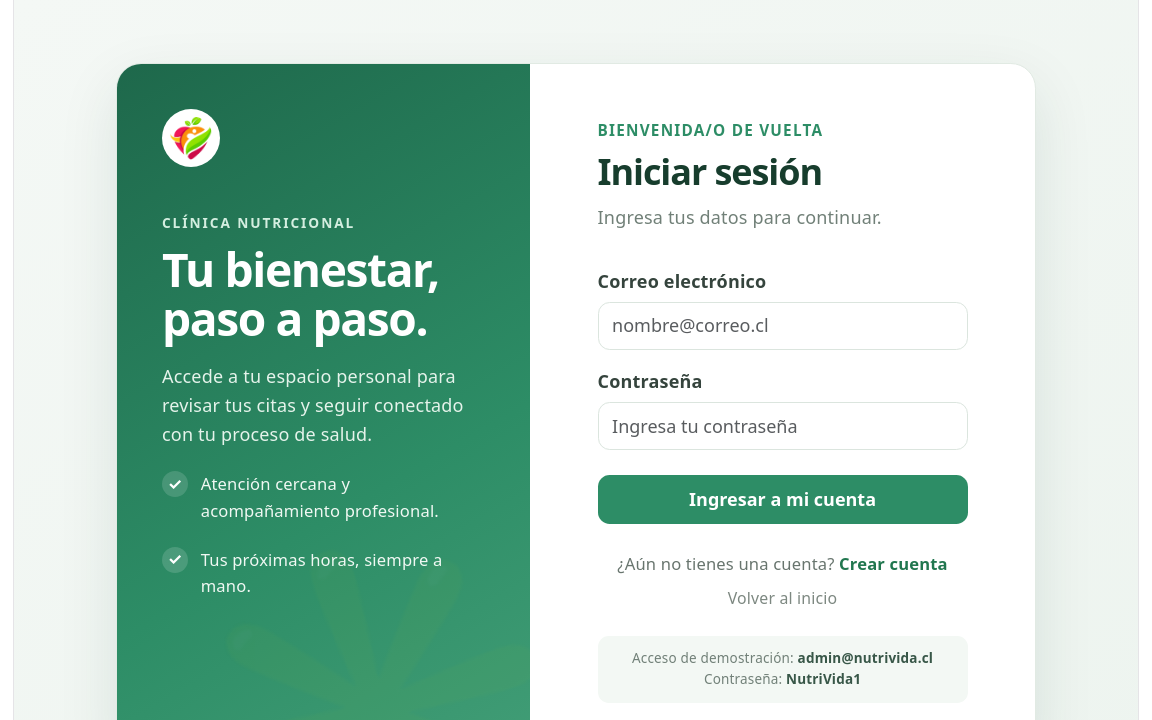
Test: 05 - una contraseña incorrecta muestra un error y no inicia sesión
Type "paciente@gmail.com" into the field labelled "Correo electrónico". click: (782, 326)
box: [598,302,968,350]
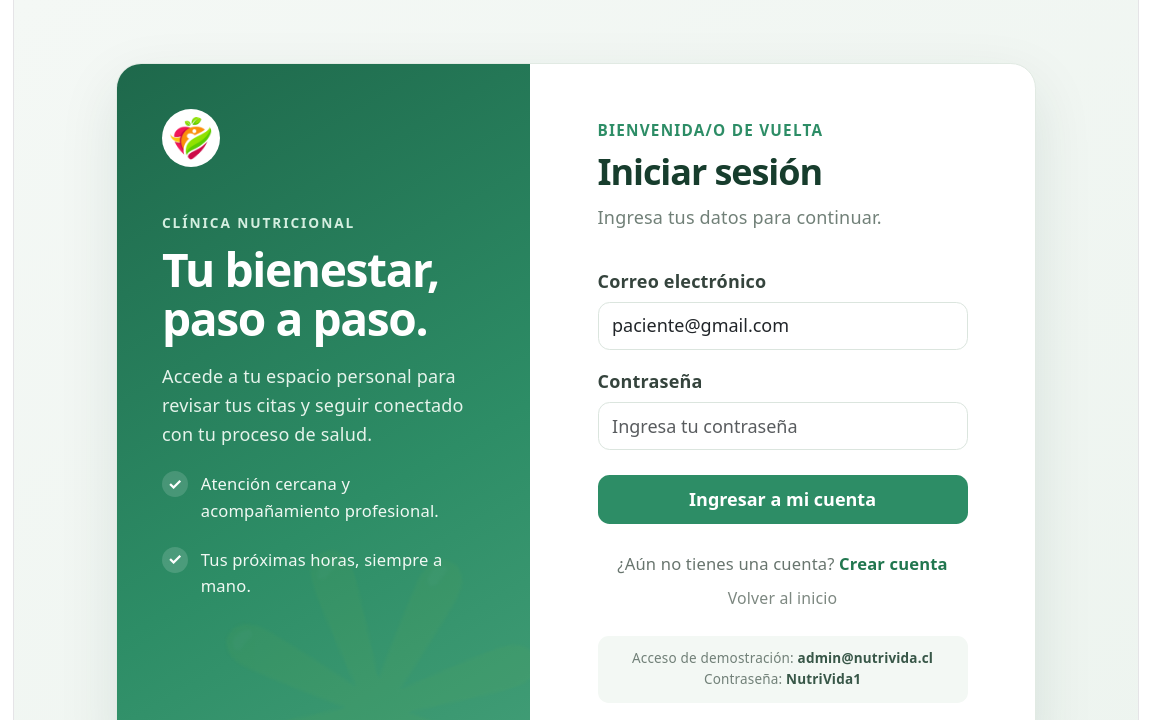
Type "Mala123" into the password field labelled "Contraseña". click: (782, 426)
box: [598,402,968,450]
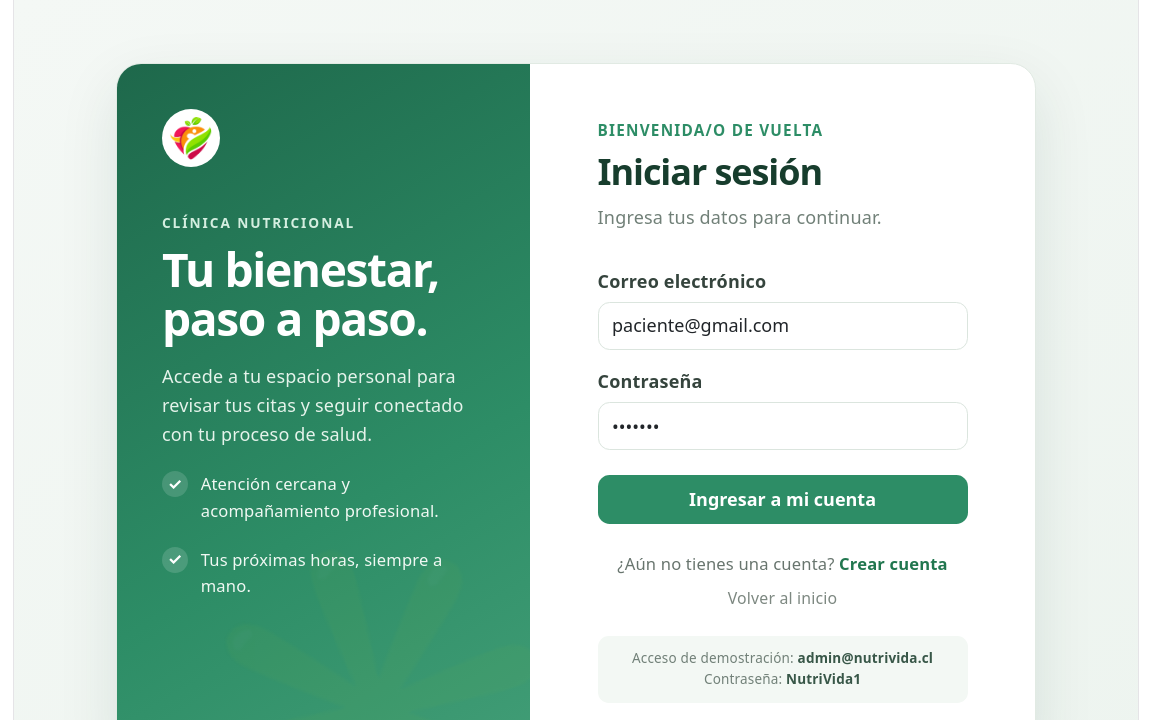
Click the button "Ingresar a mi cuenta". click: click(782, 500)
box: [598,475,968,524]
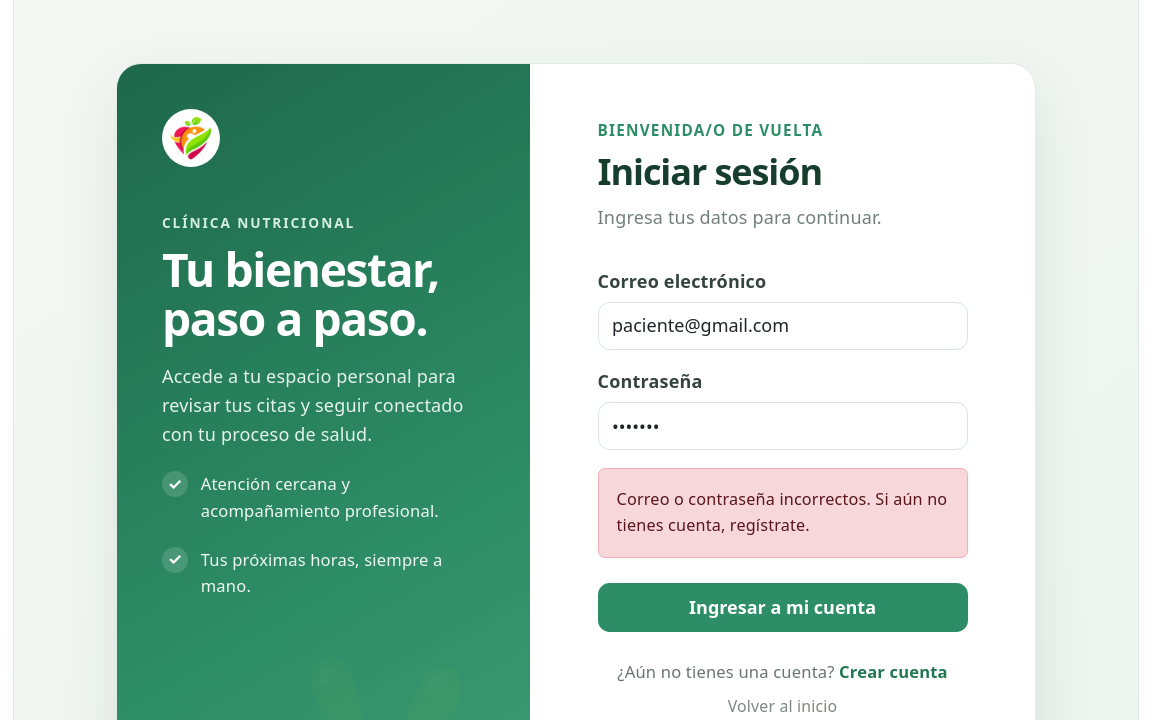
Result: the message shows "Correo o contraseña incorrectos." at [616,488,947,536]
